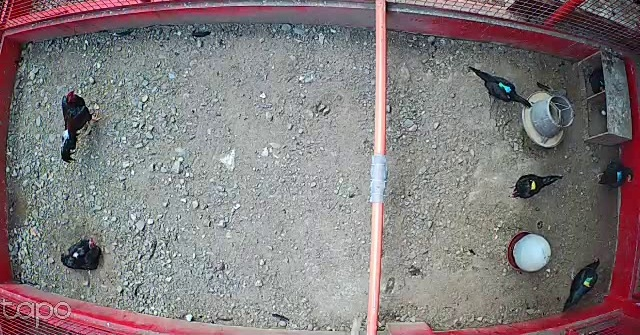Chicken: (465, 62, 532, 112), (562, 254, 601, 311), (58, 234, 106, 276), (509, 168, 566, 202), (593, 157, 638, 189)
Rooster: (59, 86, 107, 169)
Saddle_Color_Blue: (617, 171, 624, 181)
Saddle_Color_Yellow: (528, 179, 536, 190)
Saddle_Color_YellowGreen: (583, 276, 596, 287)
